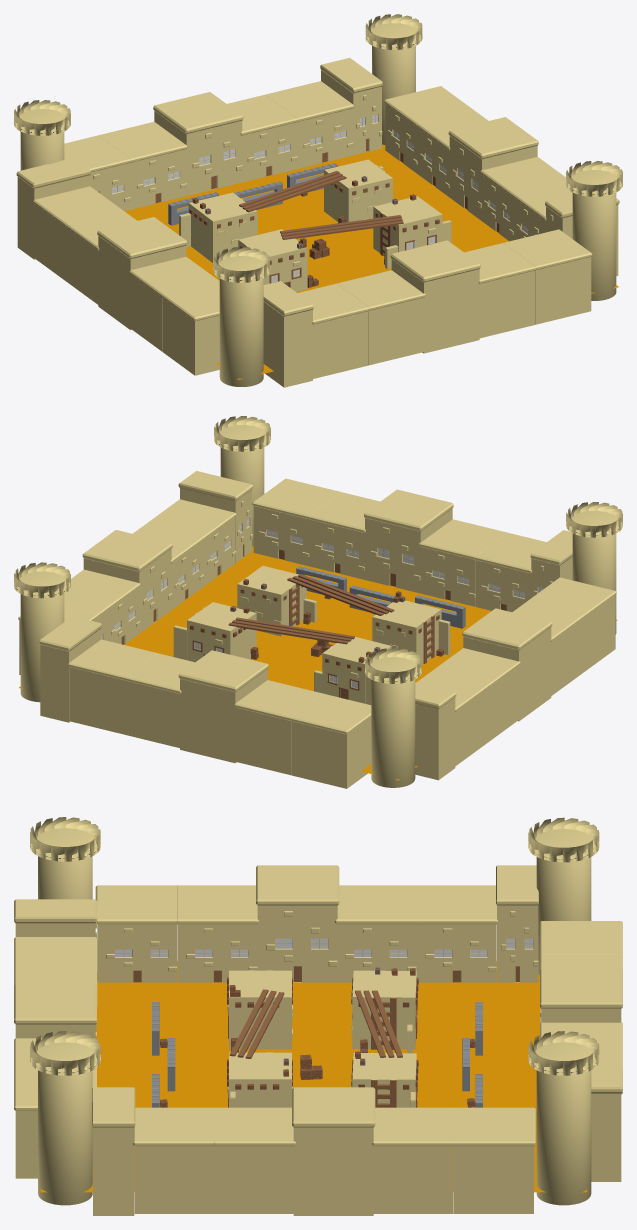
File: map_compound.glb
3 views of the same model, one above another, from view 1: azimuth 30°, elevation 25°; view 2: azimuth 150°, elevation 25°; view 3: azimuth 270°, elevation 25° (orthographic). The views are drawn at different scales.
Parts seen in each view (by area): view 1: Plane, Cube.027, Cube.020, Cube.015, Cube.029, Cube.025, Cube.008, Cube.028, Cube.021, Cube.019, Cube.026, Cylinder.008 (+29 smaller); view 2: Plane, Cube.020, Cube.018, Cube.027, Cube.015, Cube.019, Cube.021, Cube.008, Cube.029, Cylinder.001, Cube.025, Cube.022 (+29 smaller); view 3: Plane, Cube.008, Cube.015, Cube.009, Cube.006, Cube.007, Cube.010, Cube.017, Cube.014, Cube.016, Cylinder.003, Cylinder.005 (+24 smaller).
Boxes of the visible parts, bbox=[...] form: Plane: bbox=[125, 144, 618, 379]; Cube.027: bbox=[390, 240, 480, 353]; Cube.020: bbox=[153, 92, 243, 195]; Cube.015: bbox=[97, 217, 187, 330]; Cube.029: bbox=[504, 229, 592, 324]; Cube.025: bbox=[337, 270, 425, 365]; Cube.008: bbox=[448, 117, 538, 220]; Cube.028: bbox=[464, 243, 535, 338]; Cube.021: bbox=[265, 81, 354, 168]; Cube.019: bbox=[99, 121, 187, 209]; Cube.026: bbox=[297, 283, 369, 378]; Cylinder.008: bbox=[219, 278, 263, 386]; Plane: bbox=[19, 546, 617, 780]; Cube.020: bbox=[178, 650, 268, 763]; Cube.018: bbox=[290, 693, 371, 788]; Cube.027: bbox=[364, 489, 453, 593]; Cube.015: bbox=[462, 608, 552, 721]; Cube.019: bbox=[234, 680, 322, 775]; Cube.021: bbox=[68, 639, 156, 734]; Cube.008: bbox=[82, 530, 172, 633]; Cube.029: bbox=[252, 478, 340, 566]; Cylinder.001: bbox=[371, 679, 415, 787]; Cube.025: bbox=[418, 519, 507, 606]; Cube.022: bbox=[124, 653, 194, 748]; Plane: bbox=[40, 961, 587, 1192]; Cube.008: bbox=[292, 1087, 375, 1215]; Cube.015: bbox=[256, 865, 339, 982]; Cube.009: bbox=[133, 1107, 214, 1213]; Cube.006: bbox=[454, 1107, 535, 1213]; Cube.007: bbox=[372, 1107, 453, 1213]; Cube.010: bbox=[214, 1107, 296, 1213]; Cube.017: bbox=[95, 885, 177, 982]; Cube.014: bbox=[416, 885, 498, 982]; Cube.016: bbox=[177, 885, 258, 982]; Cylinder.003: bbox=[536, 1070, 591, 1205]; Cylinder.005: bbox=[38, 1070, 92, 1205].
Bounding box in the file's own units: 223 × 77.42 × 223.
